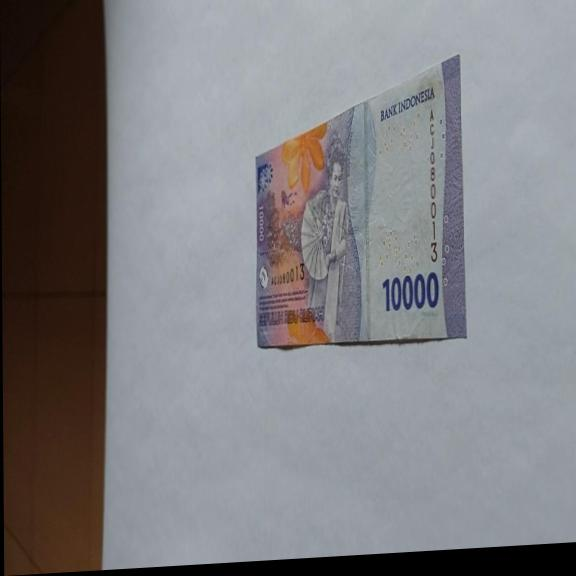Kertas: (253, 53, 466, 353), (381, 269, 439, 314)
